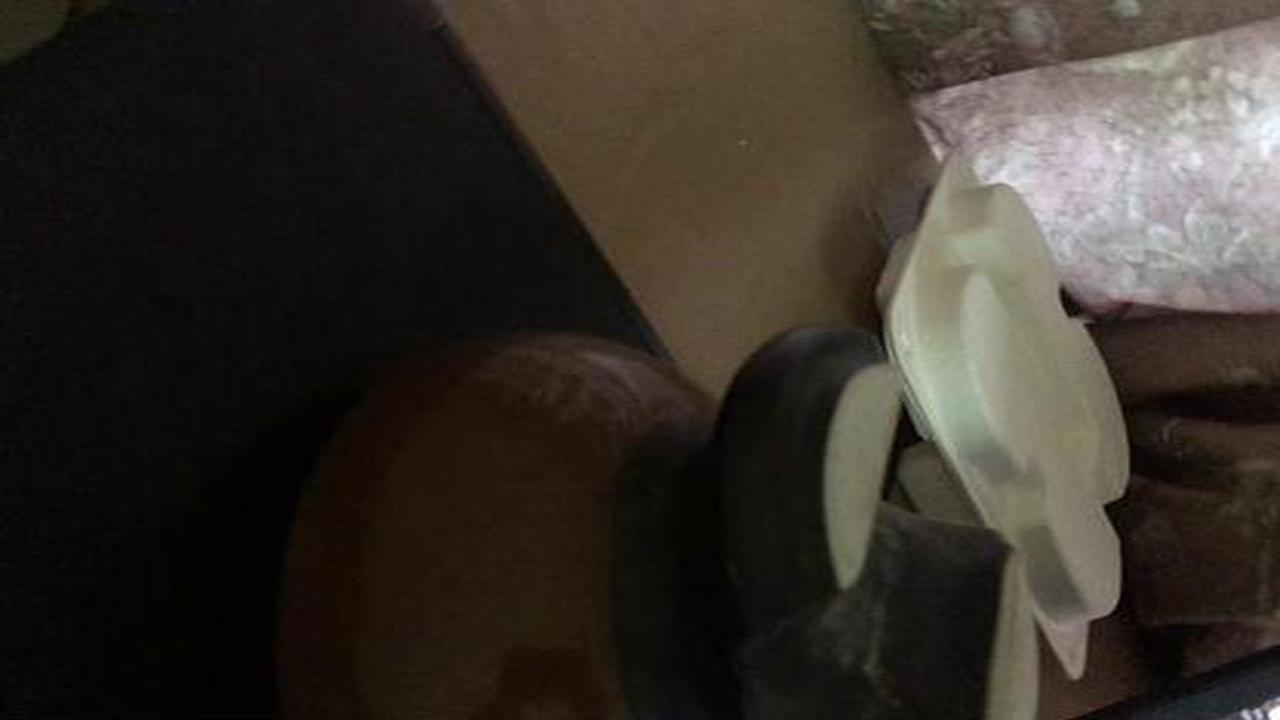insulator_pin: (228, 288, 1077, 712)
